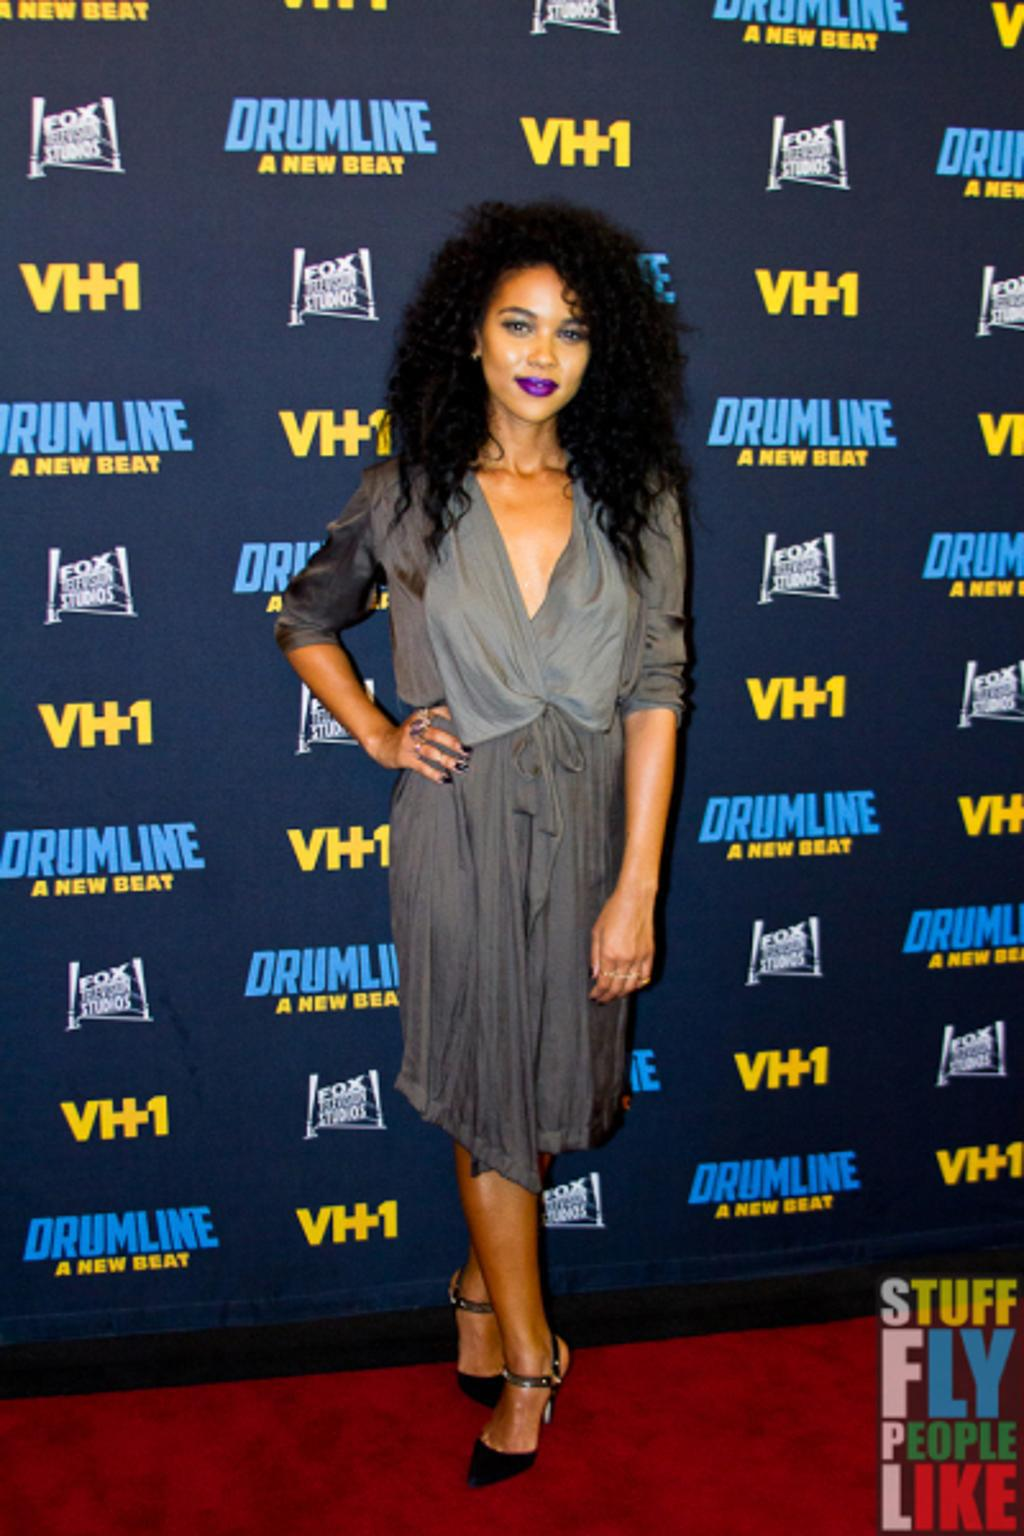face: (484, 262, 592, 418)
